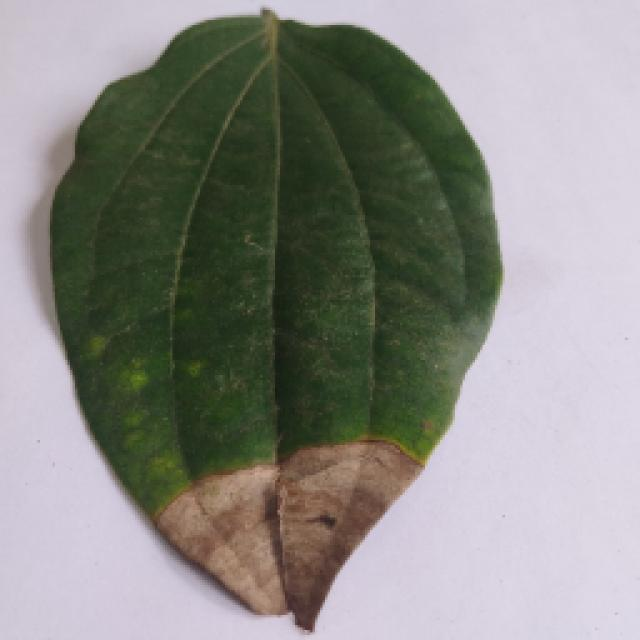footrot: (47, 15, 495, 630)
